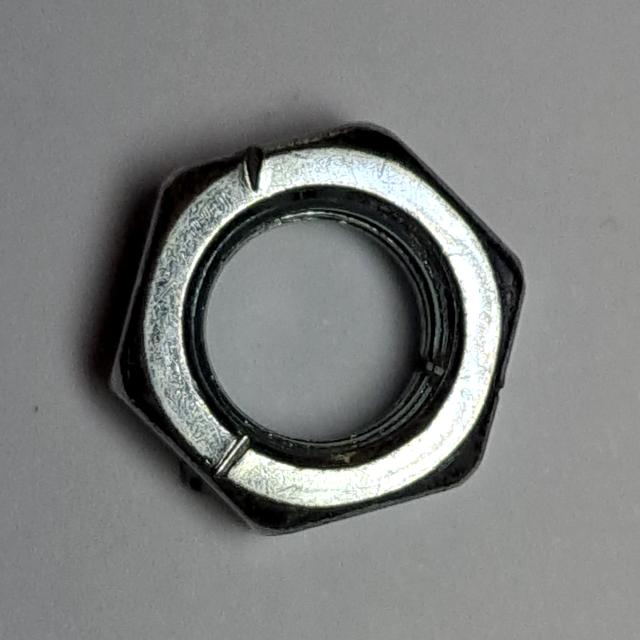Scratches: (94, 106, 536, 559)
